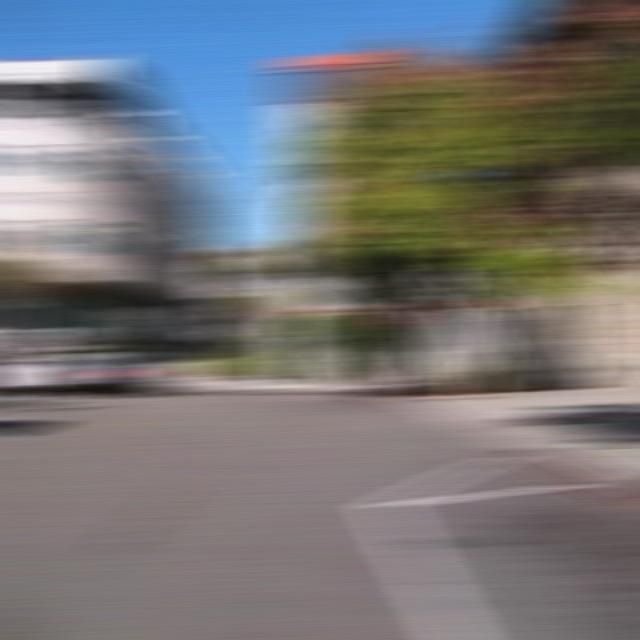stop: (374, 301, 420, 331)
